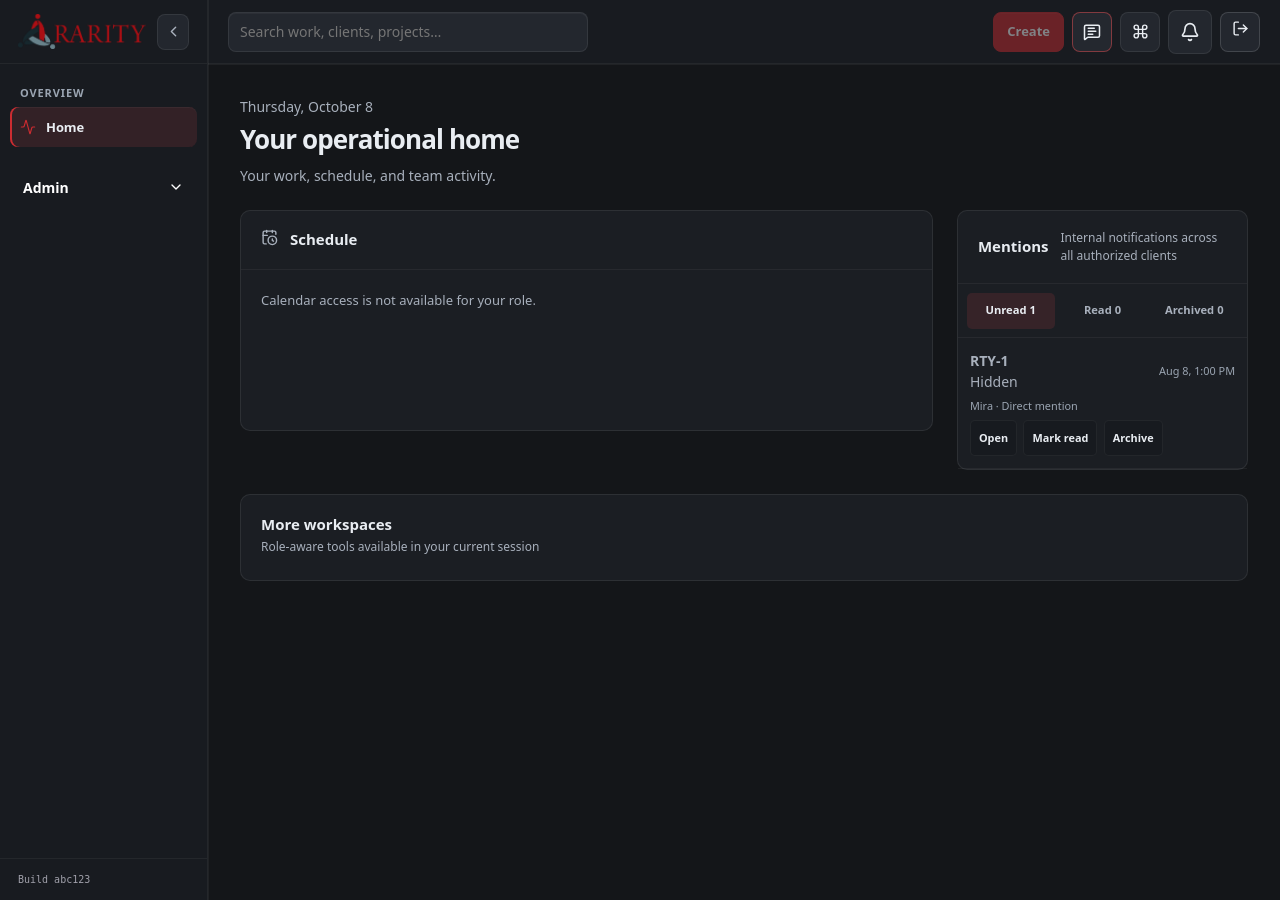
Test: App › does not disclose or navigate when resolver client metadata is missing
Step 1. Click the button with aria-label "Open RTY-1" → (994, 438), box [970,420,1017,456]
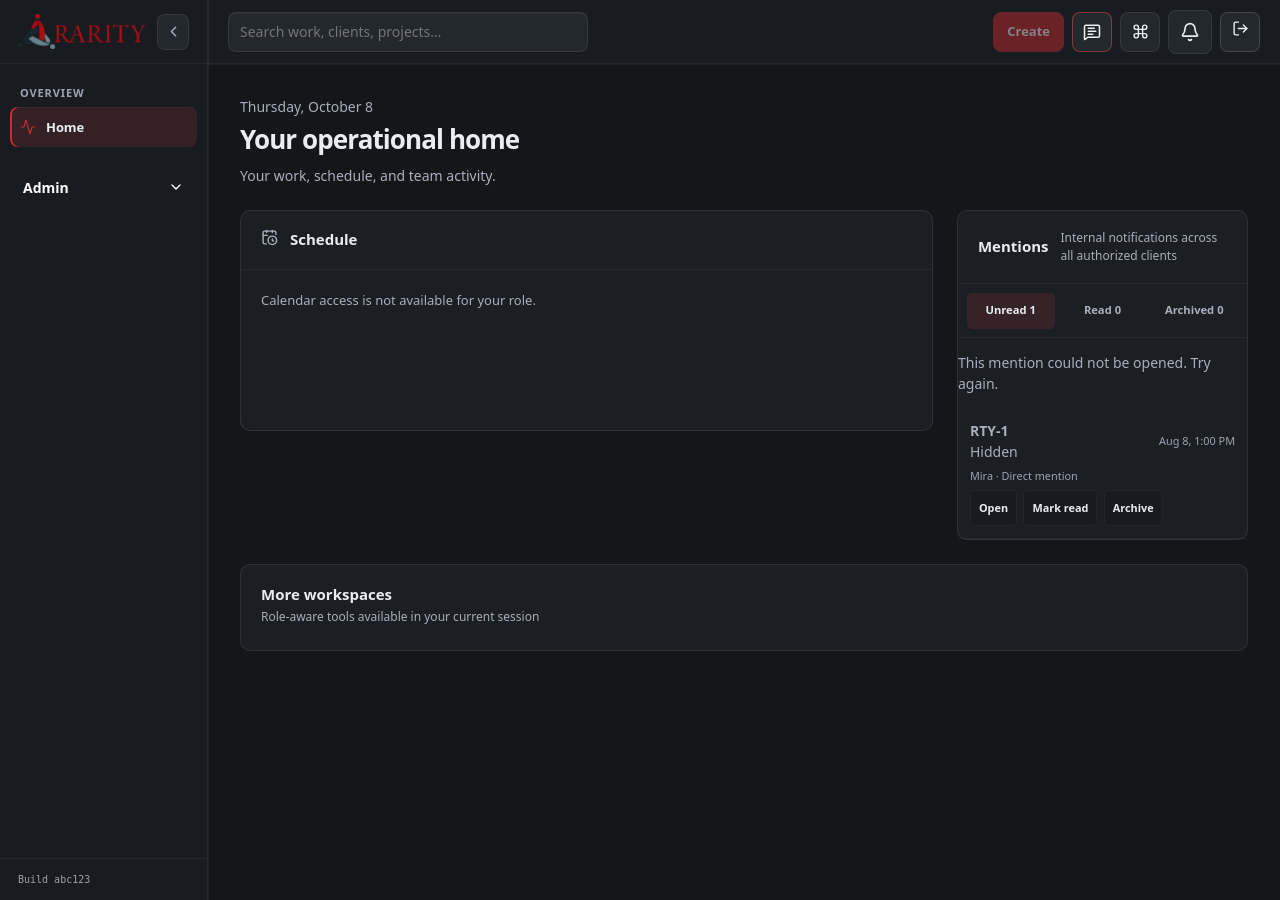
Check: the message does not show "secret-work", box [958,352,1247,394]
Check: the message shows "could not be opened", box [958,353,1211,393]
